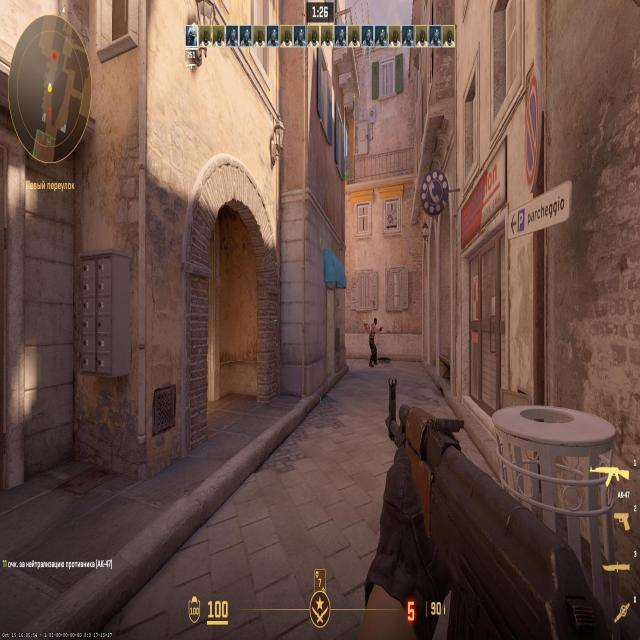T: (370, 320, 377, 366)
T_heat: (374, 323, 376, 331)
